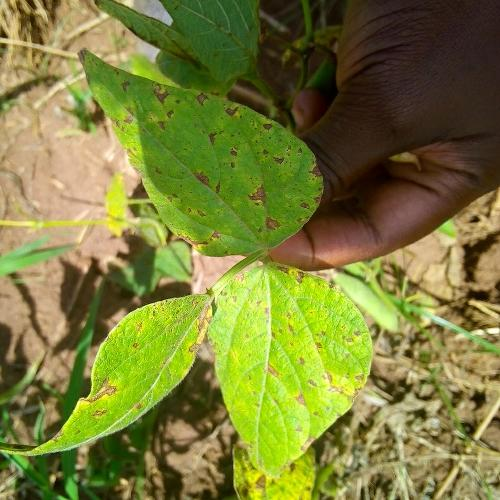hawar: (104, 70, 352, 264), (220, 291, 361, 449)
